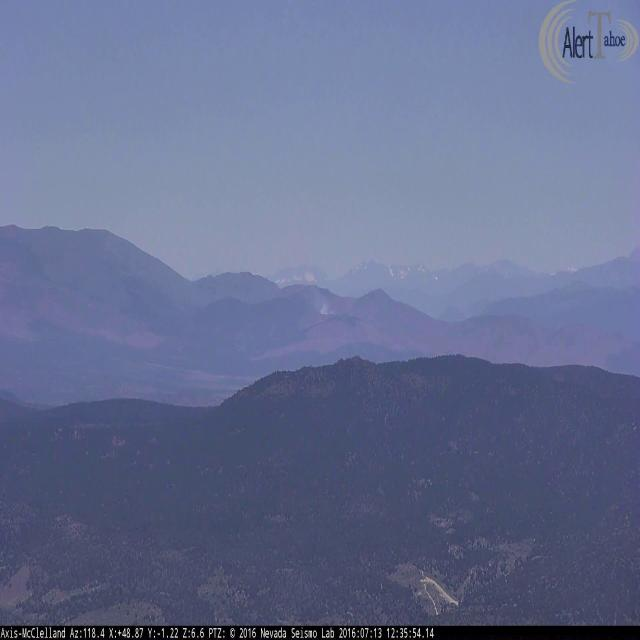smoke: (313, 289, 334, 315)
